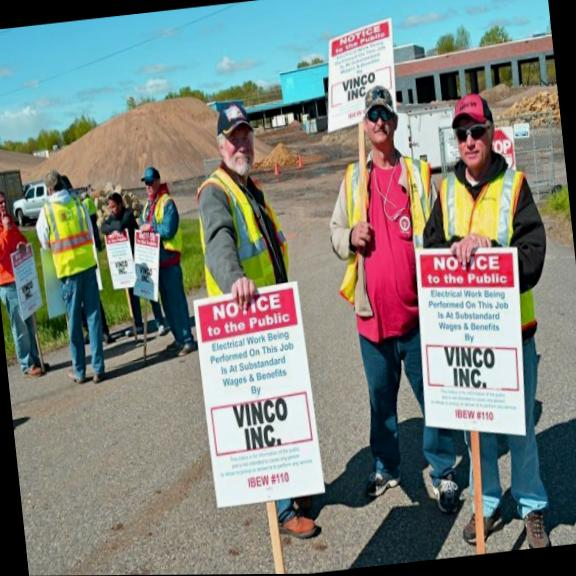safety_vest: (40, 187, 99, 283)
